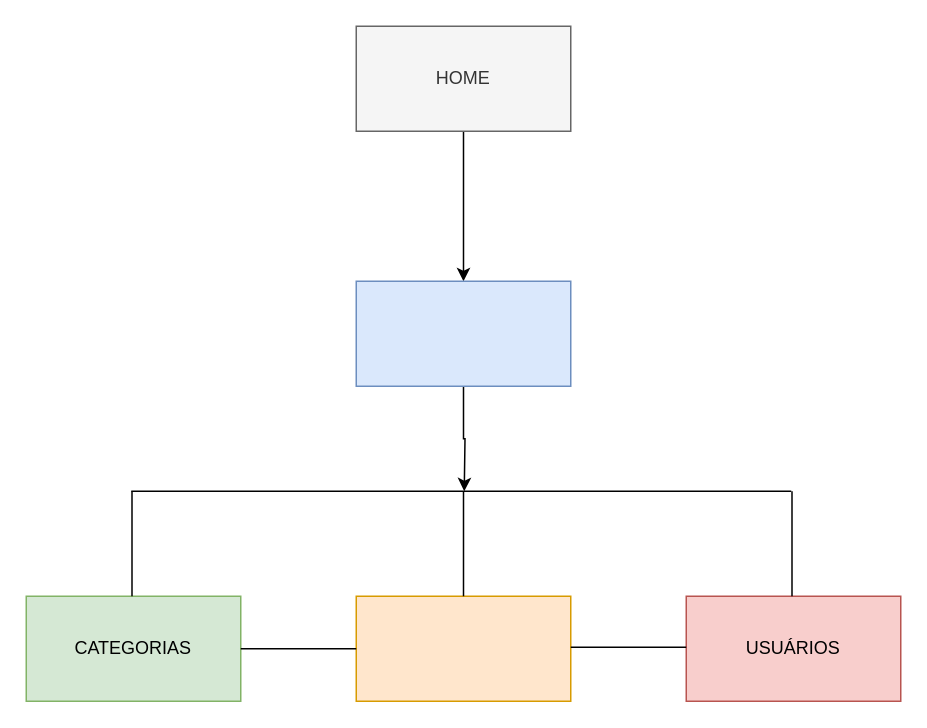
Some shapes in this 927 by 728 pixel diagram are drawn without their labels. The centre of each missing label's shape, as x and y in pixels:
EVENTOS: point (463, 648)
LOGIN: point (463, 333)
